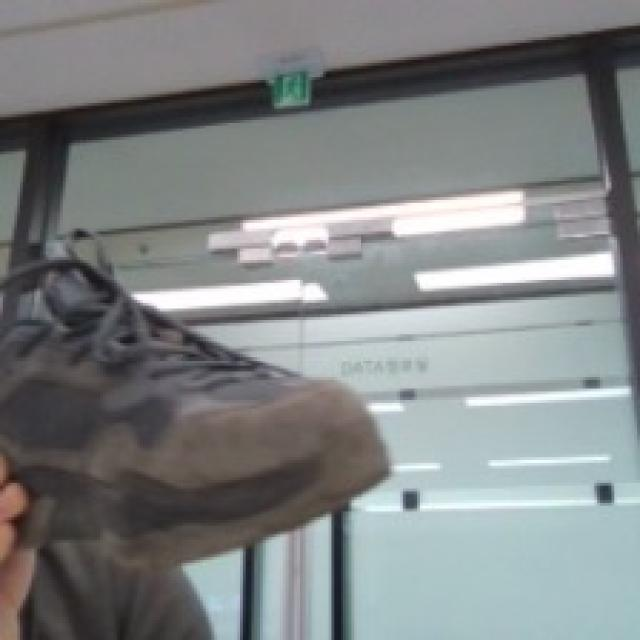shoes: (0, 207, 409, 575)
